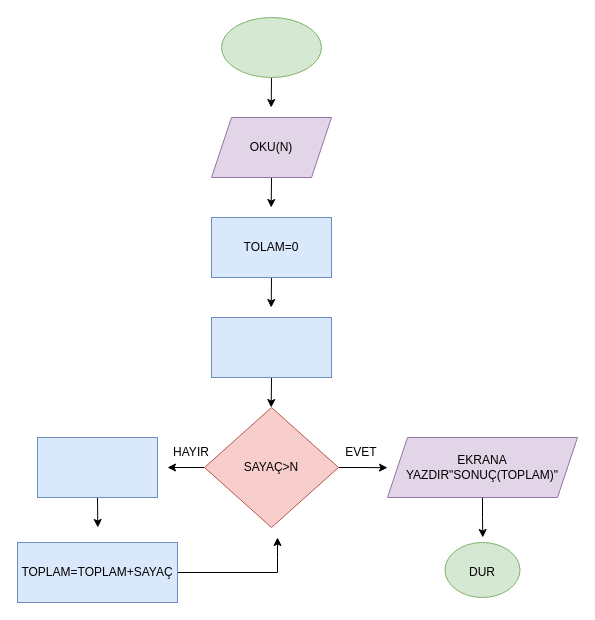
Some shapes in this 595 by 620 pixel diagram are drawn without their labels. The shapes that lost their labels are listed below. From the top down, each one's centre as x and y in pixels, then its label:
At (271,47): "BAŞLA".
At (271,347): "SAYAÇ=1".
At (97,467): "SAYAÇ=SAYAÇ+1".
